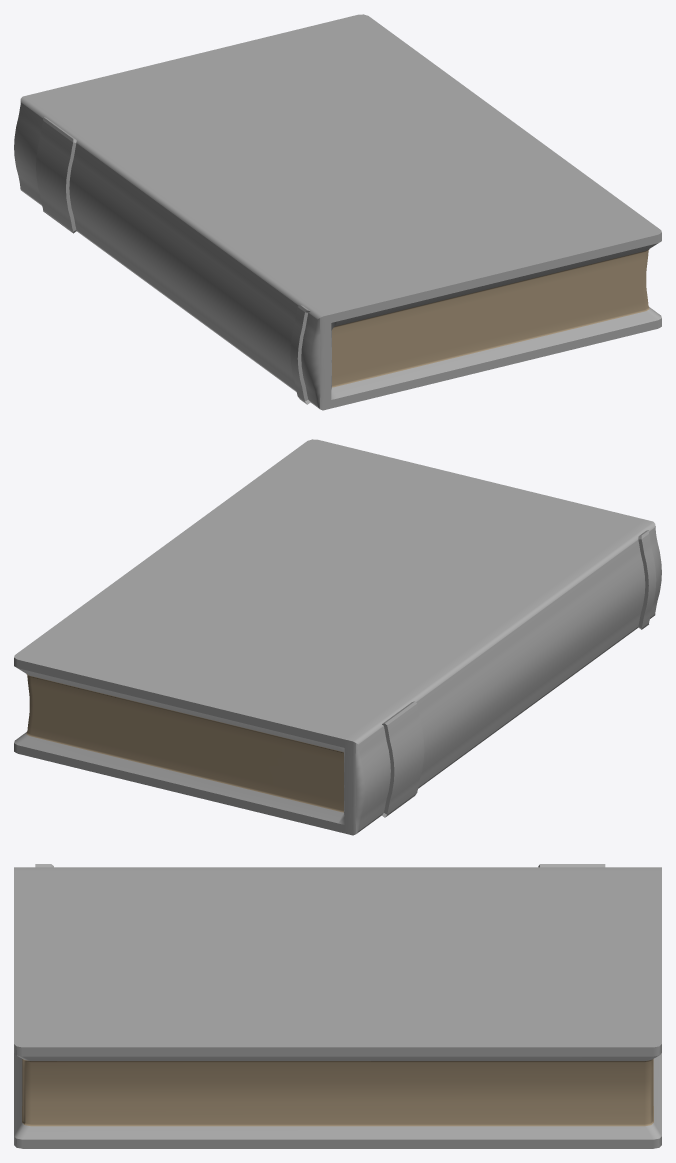
File: Book_2.fbx
The picture shows the model from 3 angles, top to bottom: view 1: azimuth 30°, elevation 25°; view 2: azimuth 150°, elevation 25°; view 3: azimuth 270°, elevation 25°; orthographic projection. The views are drawn at different scales.
Parts seen in each view (by area): view 1: book_2; view 2: book_2; view 3: book_2.
Part boxes in pixels (x1=…): book_2: x1=14, y1=14, x2=661, y2=410; book_2: x1=14, y1=439, x2=661, y2=835; book_2: x1=14, y1=864, x2=661, y2=1148.
Size of the model in its own units: 52.53 by 13.31 by 76.75.
